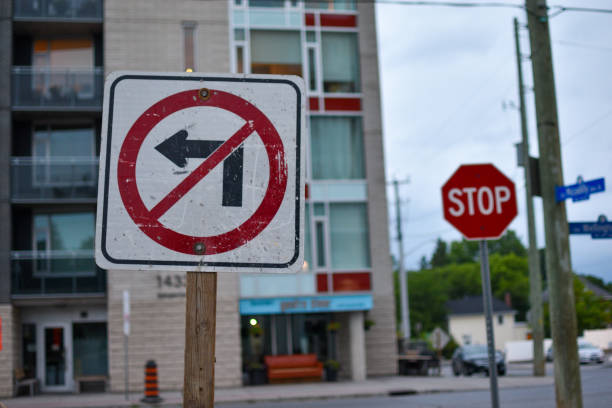sola_girilmez: (114, 89, 292, 257)
